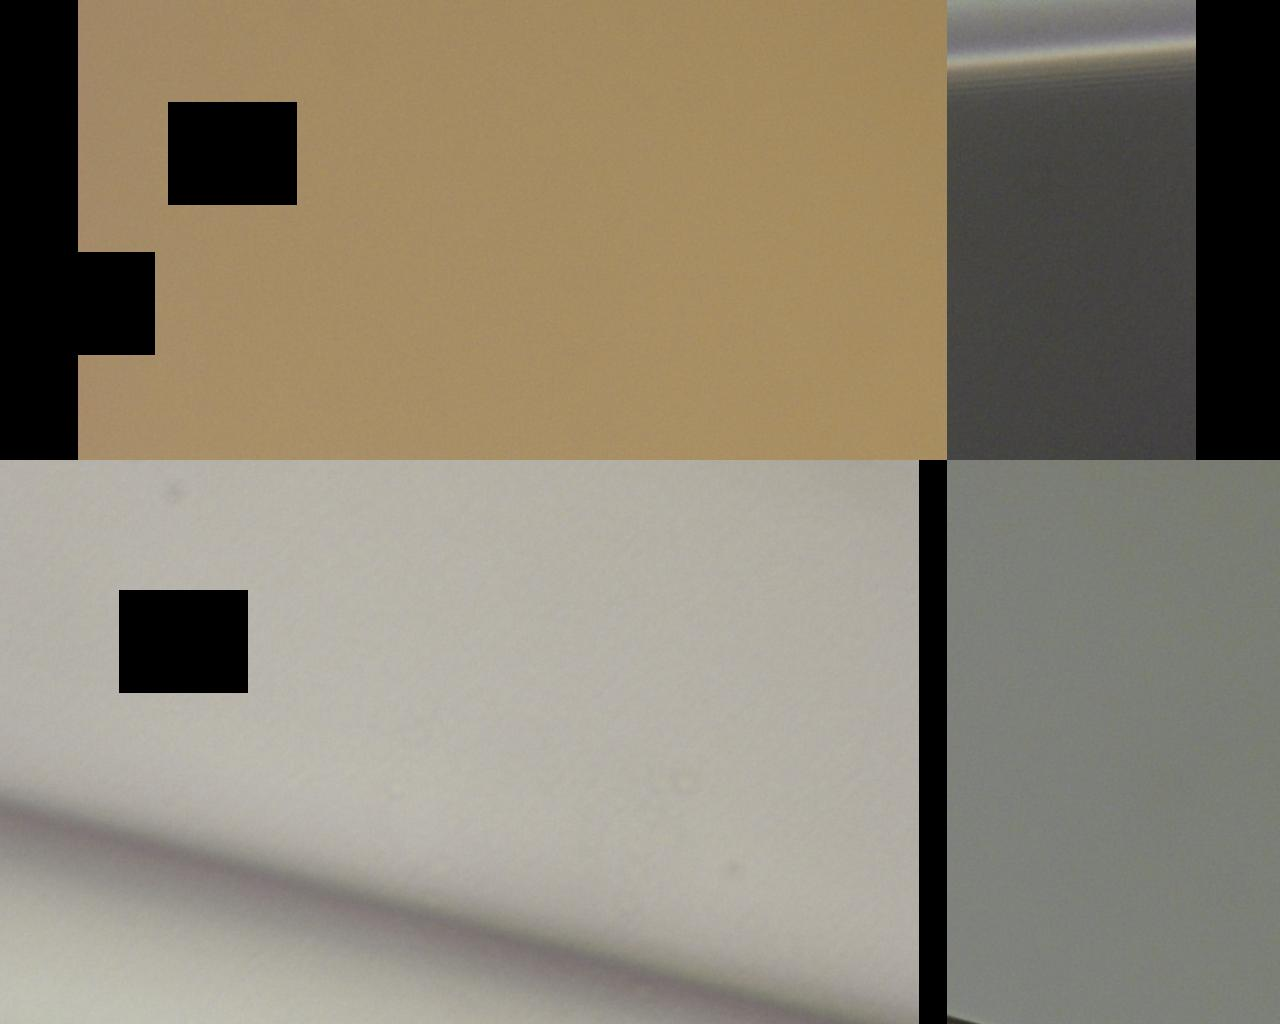fiber: (600, 573, 1106, 1024), (281, 308, 377, 459)
